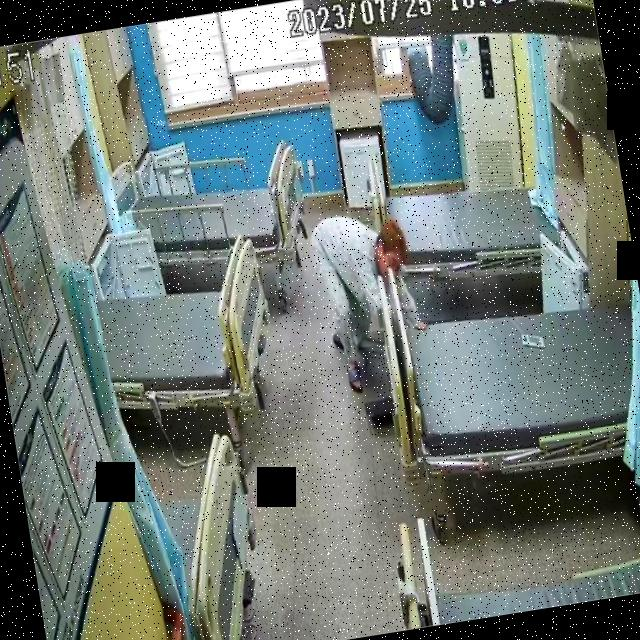bed: (397, 278, 640, 486), (90, 232, 288, 434), (108, 136, 310, 284), (366, 146, 564, 294)
danger: (308, 202, 436, 398)
patient: (307, 202, 435, 397)
